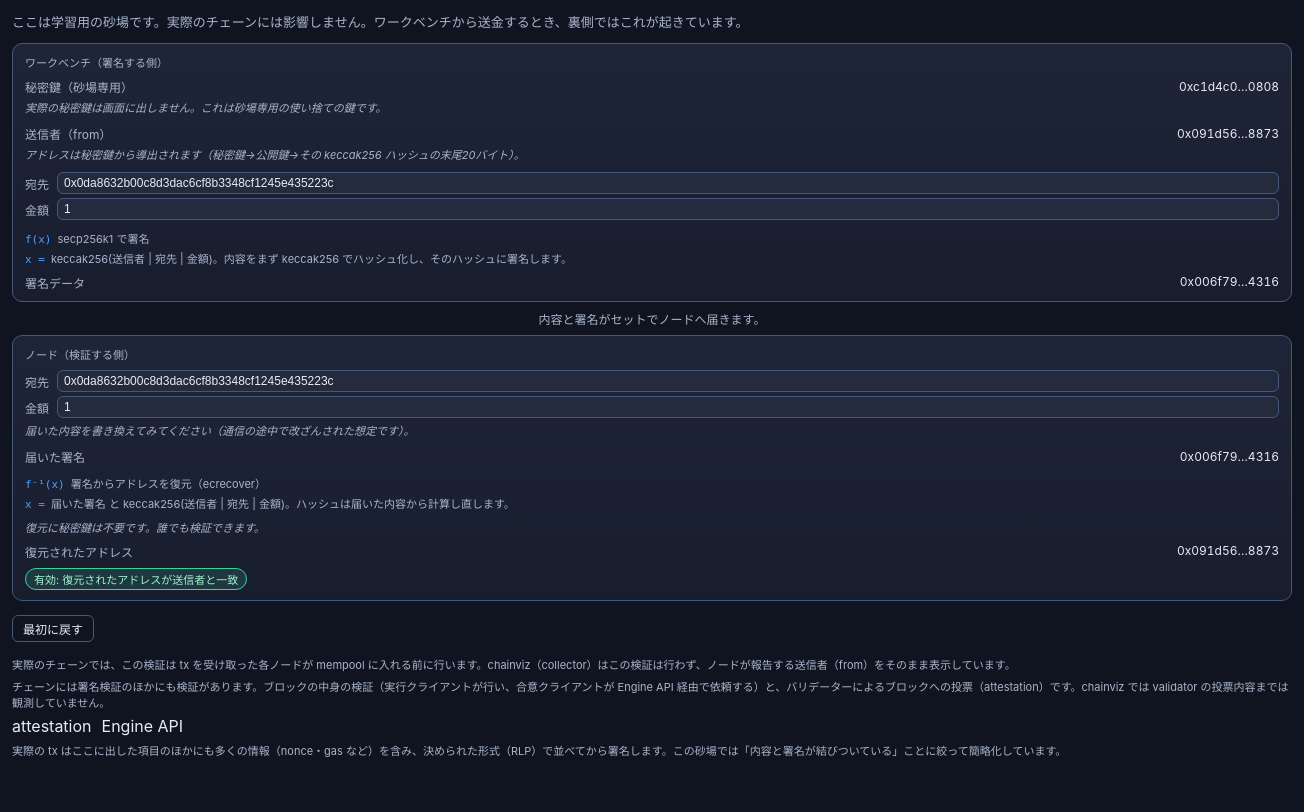
Test: SignatureDemoView: editing the workbench re-signs and stays valid › changes the signature value but keeps the demo valid, and the received fields follow along
Replace the text in the field with test id "signature-demo-workbench-amount" with "999" at (668, 209), box [57,198,1279,220]
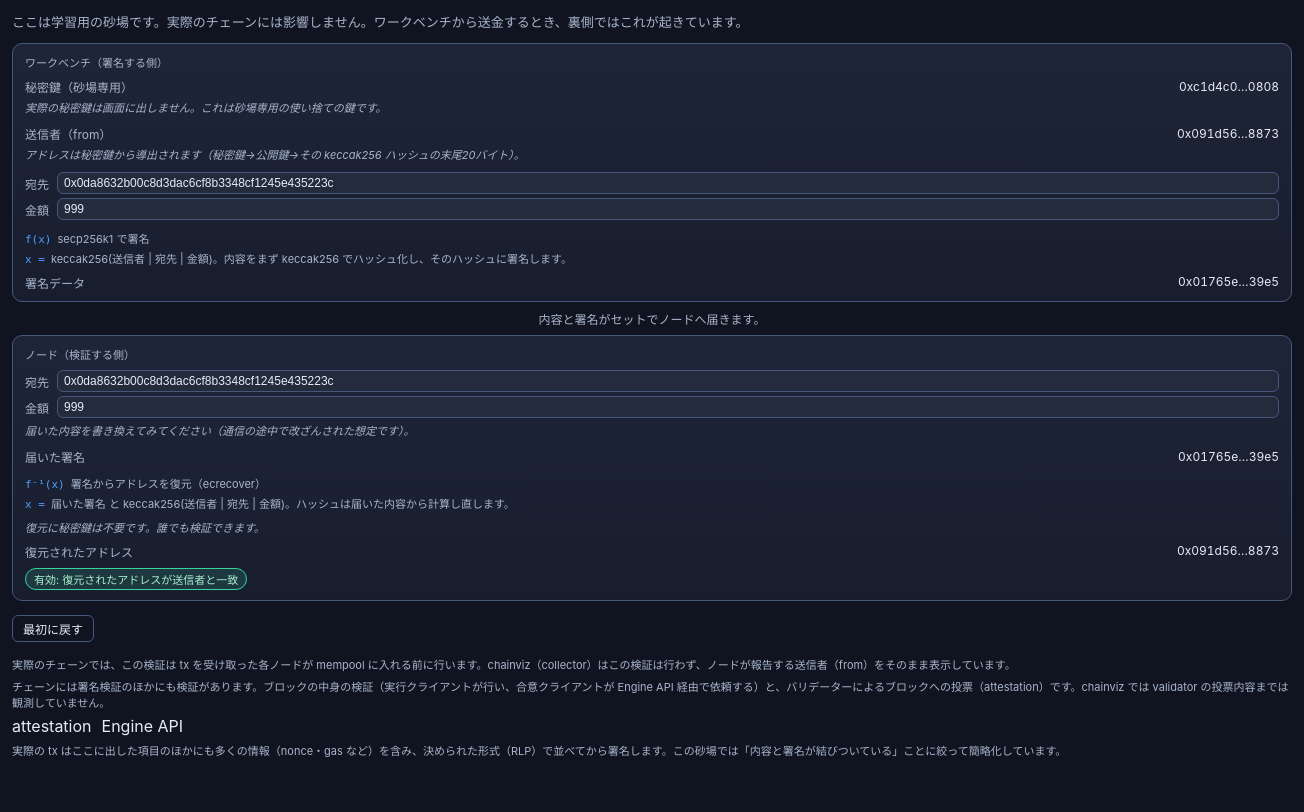
expect the text with test id "signature-demo-badge" reads "有効: 復元されたアドレスが送信者と一致": met, box [34,573,238,587]
expect the field with test id "signature-demo-received-amount" holds "999": met, box [57,396,1279,418]
